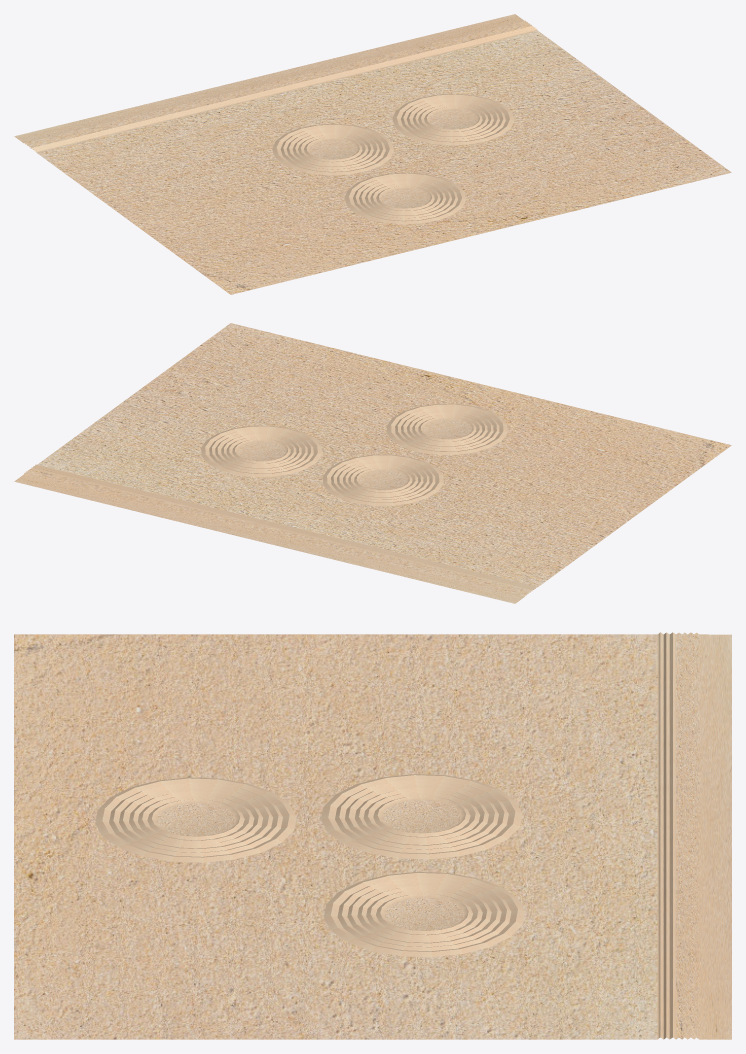
Rendered from Arena2.obj.
3 renders of one model, top to bottom at view 1: azimuth 30°, elevation 25°; view 2: azimuth 150°, elevation 25°; view 3: azimuth 270°, elevation 25°, orthographic. The views are drawn at different scales.
Parts seen in each view (by area): view 1: Arena; view 2: Arena; view 3: Arena.
Boxes of the visible parts, x1,y1,x2,y2 form: Arena: (14, 14, 731, 294); Arena: (14, 323, 731, 603); Arena: (14, 632, 731, 1039).
Size of the model in its own units: 127 by 0.3315 by 94.95.
1 material, 1 textured.
